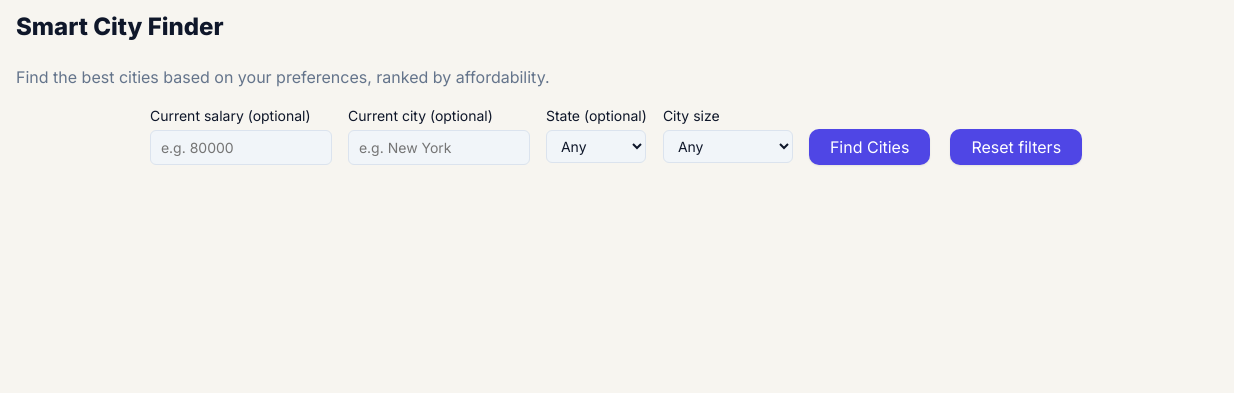
Scenario: SmartCityFinder › reorders results when sort dropdown changes
Click the button "Find Cities": x=870, y=147 [809,129,930,165]
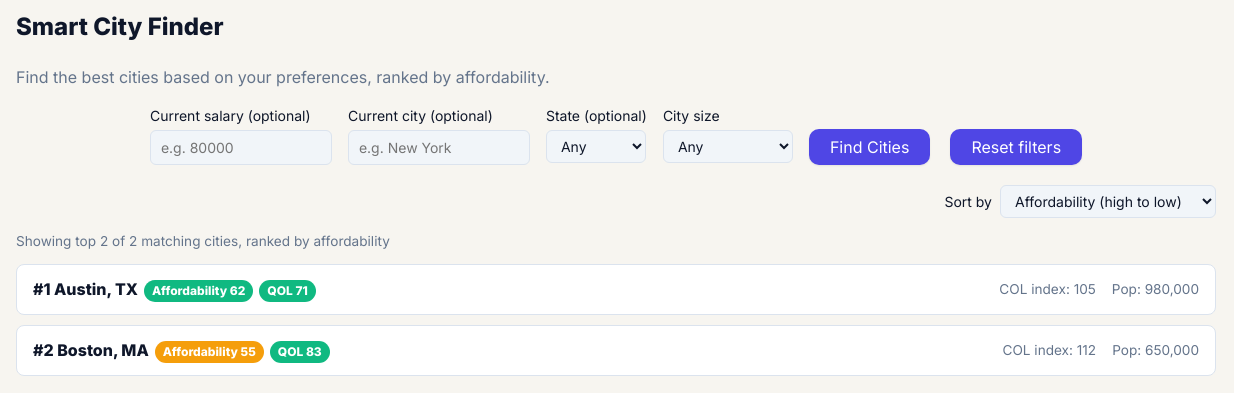
Result: the text "#1 Austin, TX" is shown at [33,279,138,299]
Select "Quality of life (high to low)" in the dropdown labelled "Sort by": x=1108, y=201 [1000,185,1216,218]
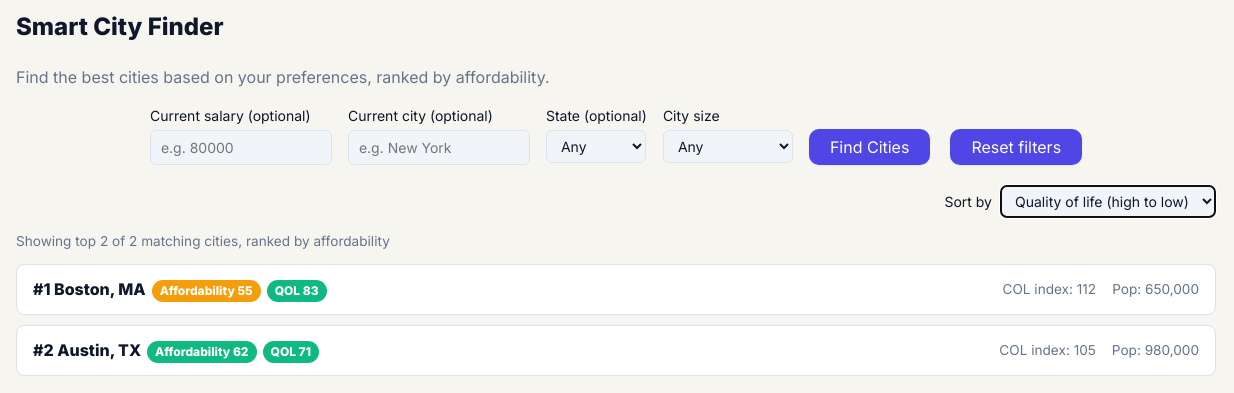
Result: the text "#1 Boston, MA" is shown at [33,279,146,299]
